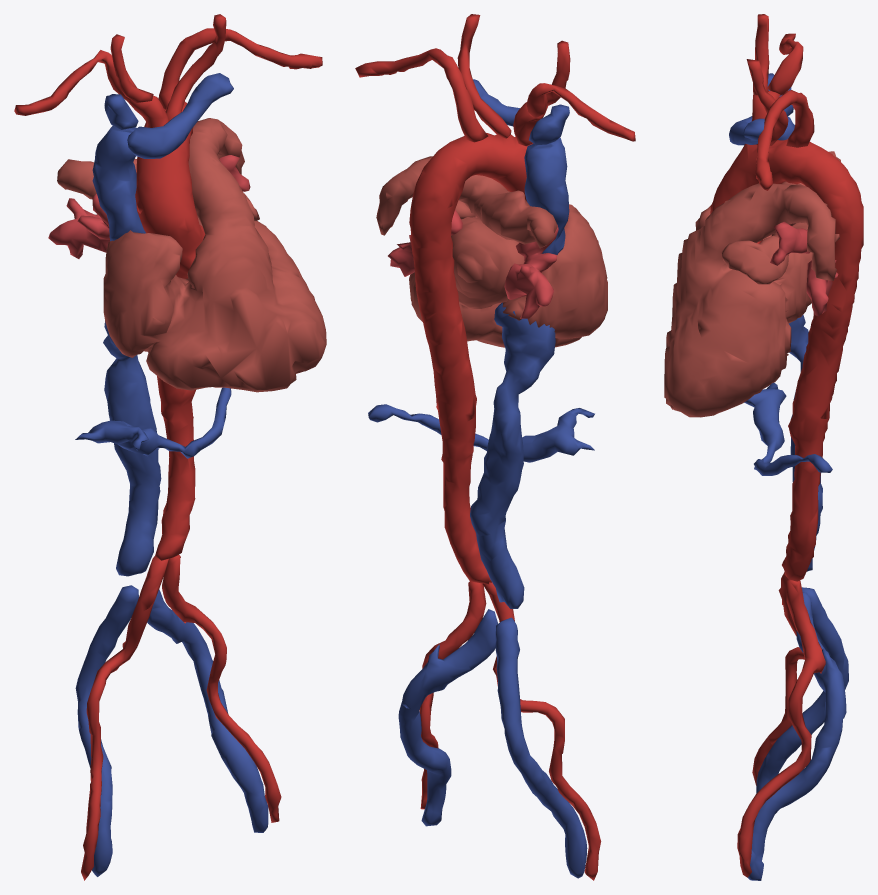
File: tsd_s0327_older_adult_male.cardiovascular.LOD3.glb
The picture shows the model from 3 angles, left to right: view 1: azimuth 30°, elevation 25°; view 2: azimuth 150°, elevation 25°; view 3: azimuth 270°, elevation 25°; orthographic projection. The views are drawn at different scales.
Parts seen in each view (by area): view 1: TSD_S0327.OLDER_ADULT.MALE.CARDIOVASCULAR.HEART_ALL_CHAMBERS, TSD_S0327.OLDER_ADULT.MALE.CARDIOVASCULAR.AORTA, TSD_S0327.OLDER_ADULT.MALE.CARDIOVASCULAR.INFERIOR_VENA_CAVA, TSD_S0327.OLDER_ADULT.MALE.CARDIOVASCULAR.ILIAC_VEIN.L, TSD_S0327.OLDER_ADULT.MALE.CARDIOVASCULAR.ILIAC_VEIN.R, TSD_S0327.OLDER_ADULT.MALE.CARDIOVASCULAR.ILIAC_ARTERY.R, TSD_S0327.OLDER_ADULT.MALE.CARDIOVASCULAR.SUBCLAVIAN_ARTERY. (×2), TSD_S0327.OLDER_ADULT.MALE.CARDIOVASCULAR.ILIAC_ARTERY.L, TSD_S0327.OLDER_ADULT.MALE.CARDIOVASCULAR.BRACHIOCEPHALIC_VE (×2), TSD_S0327.OLDER_ADULT.MALE.CARDIOVASCULAR.SUPERIOR_VENA_CAVA, TSD_S0327.OLDER_ADULT.MALE.CARDIOVASCULAR.PORTAL_VEIN_AND_SP, TSD_S0327.OLDER_ADULT.MALE.CARDIOVASCULAR.PULMONARY_VEINS_ON (+2 smaller); view 2: TSD_S0327.OLDER_ADULT.MALE.CARDIOVASCULAR.AORTA, TSD_S0327.OLDER_ADULT.MALE.CARDIOVASCULAR.HEART_ALL_CHAMBERS, TSD_S0327.OLDER_ADULT.MALE.CARDIOVASCULAR.INFERIOR_VENA_CAVA, TSD_S0327.OLDER_ADULT.MALE.CARDIOVASCULAR.ILIAC_VEIN.L, TSD_S0327.OLDER_ADULT.MALE.CARDIOVASCULAR.ILIAC_VEIN.R, TSD_S0327.OLDER_ADULT.MALE.CARDIOVASCULAR.SUBCLAVIAN_ARTERY. (×2), TSD_S0327.OLDER_ADULT.MALE.CARDIOVASCULAR.PULMONARY_VEINS_ON, TSD_S0327.OLDER_ADULT.MALE.CARDIOVASCULAR.SUPERIOR_VENA_CAVA, TSD_S0327.OLDER_ADULT.MALE.CARDIOVASCULAR.ILIAC_ARTERY.R, TSD_S0327.OLDER_ADULT.MALE.CARDIOVASCULAR.PORTAL_VEIN_AND_SP, TSD_S0327.OLDER_ADULT.MALE.CARDIOVASCULAR.COMMON_CAROTID_ART (×2), TSD_S0327.OLDER_ADULT.MALE.CARDIOVASCULAR.ILIAC_ARTERY.L (+2 smaller); view 3: TSD_S0327.OLDER_ADULT.MALE.CARDIOVASCULAR.HEART_ALL_CHAMBERS, TSD_S0327.OLDER_ADULT.MALE.CARDIOVASCULAR.AORTA, TSD_S0327.OLDER_ADULT.MALE.CARDIOVASCULAR.ILIAC_VEIN.L, TSD_S0327.OLDER_ADULT.MALE.CARDIOVASCULAR.ILIAC_ARTERY.L, TSD_S0327.OLDER_ADULT.MALE.CARDIOVASCULAR.SUBCLAVIAN_ARTERY. (×2), TSD_S0327.OLDER_ADULT.MALE.CARDIOVASCULAR.ILIAC_VEIN.R, TSD_S0327.OLDER_ADULT.MALE.CARDIOVASCULAR.PORTAL_VEIN_AND_SP, TSD_S0327.OLDER_ADULT.MALE.CARDIOVASCULAR.LEFT_ATRIAL_APPEND, TSD_S0327.OLDER_ADULT.MALE.CARDIOVASCULAR.PULMONARY_VEINS_ON, TSD_S0327.OLDER_ADULT.MALE.CARDIOVASCULAR.COMMON_CAROTID_ART (×2), TSD_S0327.OLDER_ADULT.MALE.CARDIOVASCULAR.ILIAC_ARTERY.R, TSD_S0327.OLDER_ADULT.MALE.CARDIOVASCULAR.INFERIOR_VENA_CAVA (+1 smaller).
Boxes of the visible parts, x1=… form: TSD_S0327.OLDER_ADULT.MALE.CARDIOVASCULAR.HEART_ALL_CHAMBERS: x1=57, y1=118, x2=326, y2=392; TSD_S0327.OLDER_ADULT.MALE.CARDIOVASCULAR.AORTA: x1=135, y1=98, x2=205, y2=560; TSD_S0327.OLDER_ADULT.MALE.CARDIOVASCULAR.INFERIOR_VENA_CAVA: x1=103, y1=321, x2=161, y2=576; TSD_S0327.OLDER_ADULT.MALE.CARDIOVASCULAR.ILIAC_VEIN.L: x1=147, y1=589, x2=268, y2=832; TSD_S0327.OLDER_ADULT.MALE.CARDIOVASCULAR.ILIAC_VEIN.R: x1=75, y1=585, x2=138, y2=876; TSD_S0327.OLDER_ADULT.MALE.CARDIOVASCULAR.ILIAC_ARTERY.R: x1=81, y1=556, x2=168, y2=880; TSD_S0327.OLDER_ADULT.MALE.CARDIOVASCULAR.SUBCLAVIAN_ARTERY. (×2): x1=14, y1=28, x2=322, y2=115; TSD_S0327.OLDER_ADULT.MALE.CARDIOVASCULAR.ILIAC_ARTERY.L: x1=162, y1=555, x2=281, y2=822; TSD_S0327.OLDER_ADULT.MALE.CARDIOVASCULAR.BRACHIOCEPHALIC_VE (×2): x1=104, y1=73, x2=233, y2=158; TSD_S0327.OLDER_ADULT.MALE.CARDIOVASCULAR.SUPERIOR_VENA_CAVA: x1=92, y1=126, x2=145, y2=241; TSD_S0327.OLDER_ADULT.MALE.CARDIOVASCULAR.PORTAL_VEIN_AND_SP: x1=75, y1=387, x2=231, y2=458; TSD_S0327.OLDER_ADULT.MALE.CARDIOVASCULAR.PULMONARY_VEINS_ON: x1=48, y1=155, x2=250, y2=258; TSD_S0327.OLDER_ADULT.MALE.CARDIOVASCULAR.AORTA: x1=409, y1=133, x2=532, y2=584; TSD_S0327.OLDER_ADULT.MALE.CARDIOVASCULAR.HEART_ALL_CHAMBERS: x1=376, y1=156, x2=607, y2=347; TSD_S0327.OLDER_ADULT.MALE.CARDIOVASCULAR.INFERIOR_VENA_CAVA: x1=470, y1=302, x2=555, y2=608; TSD_S0327.OLDER_ADULT.MALE.CARDIOVASCULAR.ILIAC_VEIN.L: x1=398, y1=609, x2=497, y2=826; TSD_S0327.OLDER_ADULT.MALE.CARDIOVASCULAR.ILIAC_VEIN.R: x1=495, y1=617, x2=587, y2=878; TSD_S0327.OLDER_ADULT.MALE.CARDIOVASCULAR.SUBCLAVIAN_ARTERY. (×2): x1=355, y1=48, x2=635, y2=142; TSD_S0327.OLDER_ADULT.MALE.CARDIOVASCULAR.PULMONARY_VEINS_ON: x1=388, y1=209, x2=558, y2=318; TSD_S0327.OLDER_ADULT.MALE.CARDIOVASCULAR.SUPERIOR_VENA_CAVA: x1=524, y1=139, x2=569, y2=254; TSD_S0327.OLDER_ADULT.MALE.CARDIOVASCULAR.ILIAC_ARTERY.R: x1=482, y1=582, x2=601, y2=880; TSD_S0327.OLDER_ADULT.MALE.CARDIOVASCULAR.PORTAL_VEIN_AND_SP: x1=368, y1=404, x2=594, y2=462; TSD_S0327.OLDER_ADULT.MALE.CARDIOVASCULAR.COMMON_CAROTID_ART (×2): x1=457, y1=14, x2=570, y2=138; TSD_S0327.OLDER_ADULT.MALE.CARDIOVASCULAR.ILIAC_ARTERY.L: x1=419, y1=581, x2=486, y2=809; TSD_S0327.OLDER_ADULT.MALE.CARDIOVASCULAR.HEART_ALL_CHAMBERS: x1=664, y1=151, x2=840, y2=417; TSD_S0327.OLDER_ADULT.MALE.CARDIOVASCULAR.AORTA: x1=710, y1=139, x2=863, y2=581; TSD_S0327.OLDER_ADULT.MALE.CARDIOVASCULAR.ILIAC_VEIN.L: x1=748, y1=592, x2=846, y2=880; TSD_S0327.OLDER_ADULT.MALE.CARDIOVASCULAR.ILIAC_ARTERY.L: x1=737, y1=579, x2=825, y2=877; TSD_S0327.OLDER_ADULT.MALE.CARDIOVASCULAR.SUBCLAVIAN_ARTERY. (×2): x1=755, y1=33, x2=814, y2=190; TSD_S0327.OLDER_ADULT.MALE.CARDIOVASCULAR.ILIAC_VEIN.R: x1=756, y1=587, x2=848, y2=793; TSD_S0327.OLDER_ADULT.MALE.CARDIOVASCULAR.PORTAL_VEIN_AND_SP: x1=744, y1=382, x2=832, y2=475; TSD_S0327.OLDER_ADULT.MALE.CARDIOVASCULAR.LEFT_ATRIAL_APPEND: x1=721, y1=235, x2=788, y2=284; TSD_S0327.OLDER_ADULT.MALE.CARDIOVASCULAR.PULMONARY_VEINS_ON: x1=770, y1=221, x2=838, y2=316; TSD_S0327.OLDER_ADULT.MALE.CARDIOVASCULAR.COMMON_CAROTID_ART (×2): x1=746, y1=14, x2=788, y2=145; TSD_S0327.OLDER_ADULT.MALE.CARDIOVASCULAR.ILIAC_ARTERY.R: x1=752, y1=572, x2=804, y2=785; TSD_S0327.OLDER_ADULT.MALE.CARDIOVASCULAR.INFERIOR_VENA_CAVA: x1=788, y1=315, x2=822, y2=571.
Bounding box in the file's own units: 0.2156 × 0.5857 × 0.1307.
